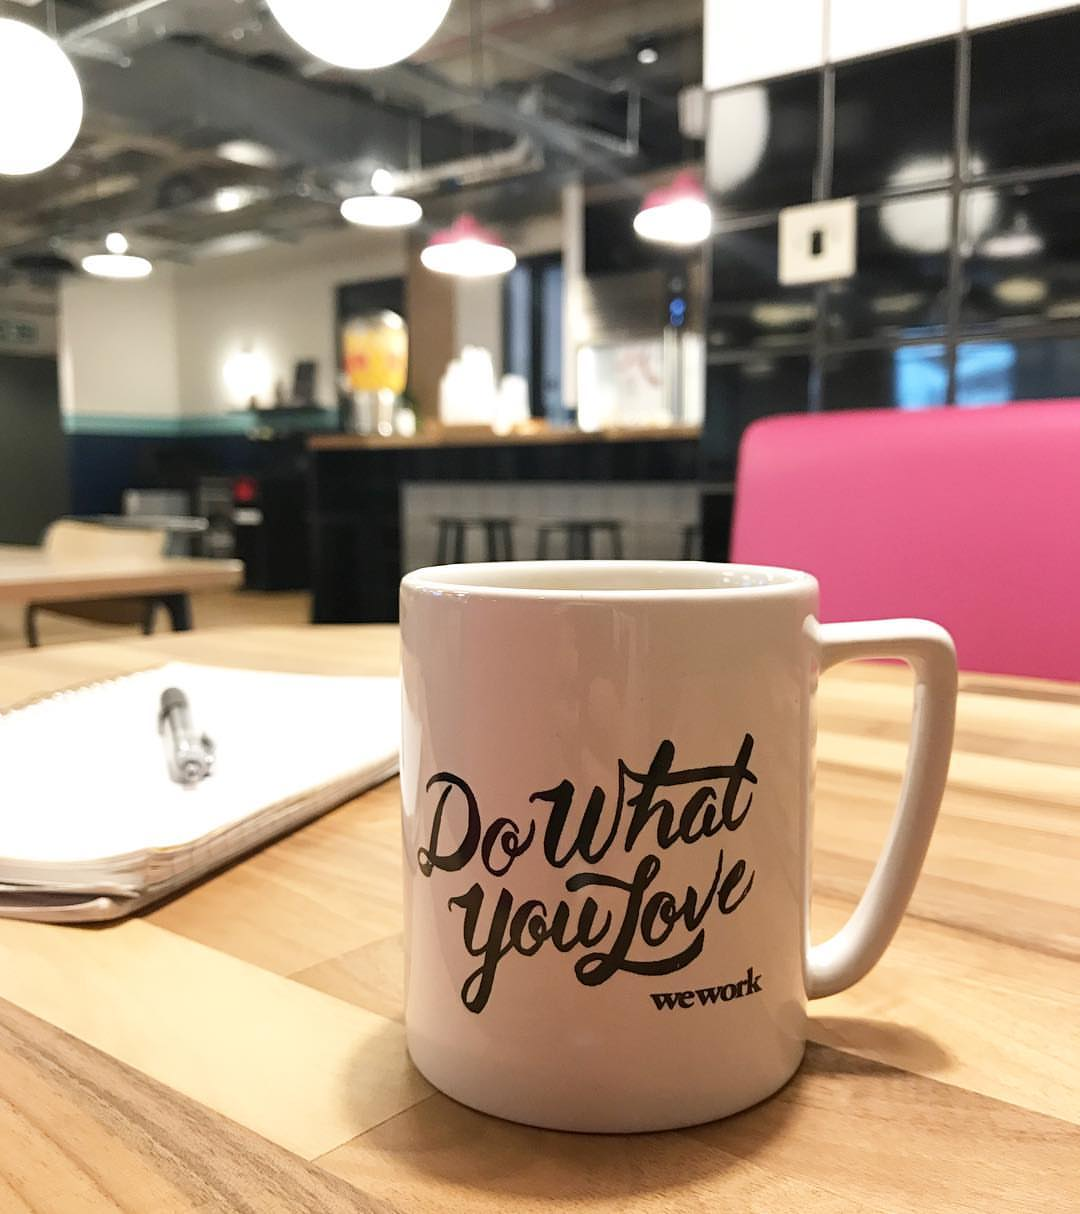wework: (643, 971, 774, 1015)
